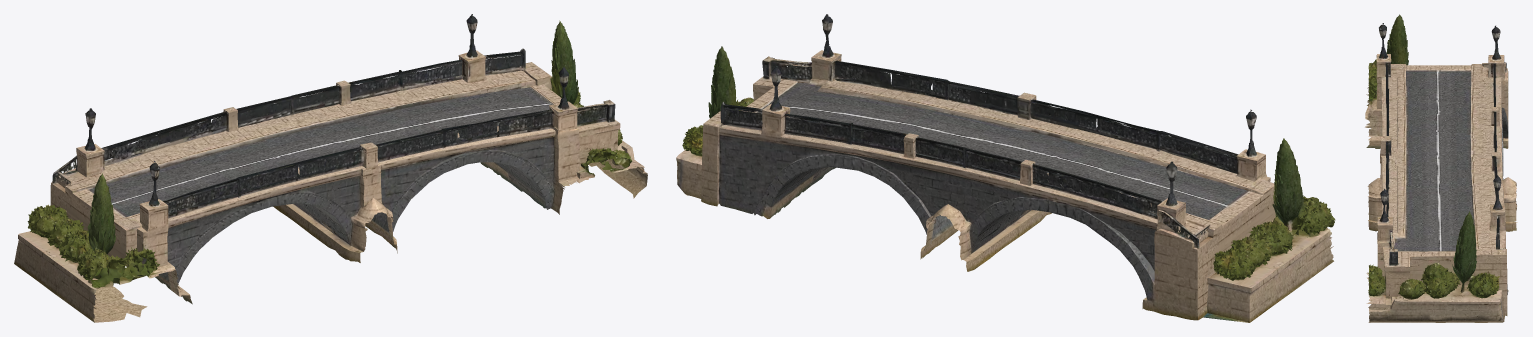
File: m_tb_metekhi.glb
The picture shows the model from 3 angles, left to right: view 1: azimuth 30°, elevation 25°; view 2: azimuth 150°, elevation 25°; view 3: azimuth 270°, elevation 25°; orthographic projection. The views are drawn at different scales.
Size of the model in its own units: 0.9988 by 0.2464 by 0.2961.
1 material, 1 textured.
